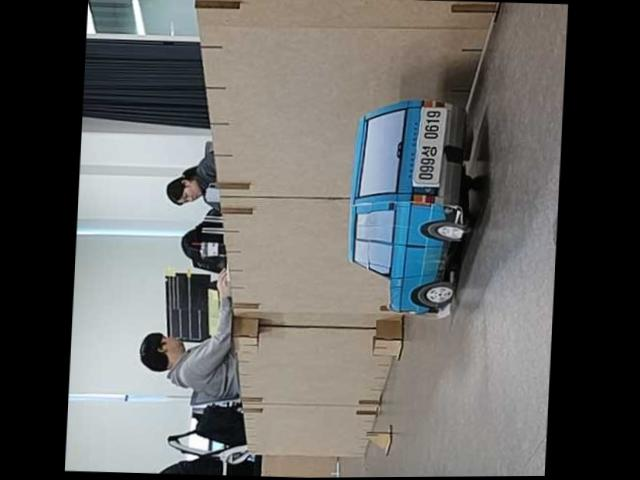car: (343, 97, 482, 315)
id: (412, 106, 451, 186)
